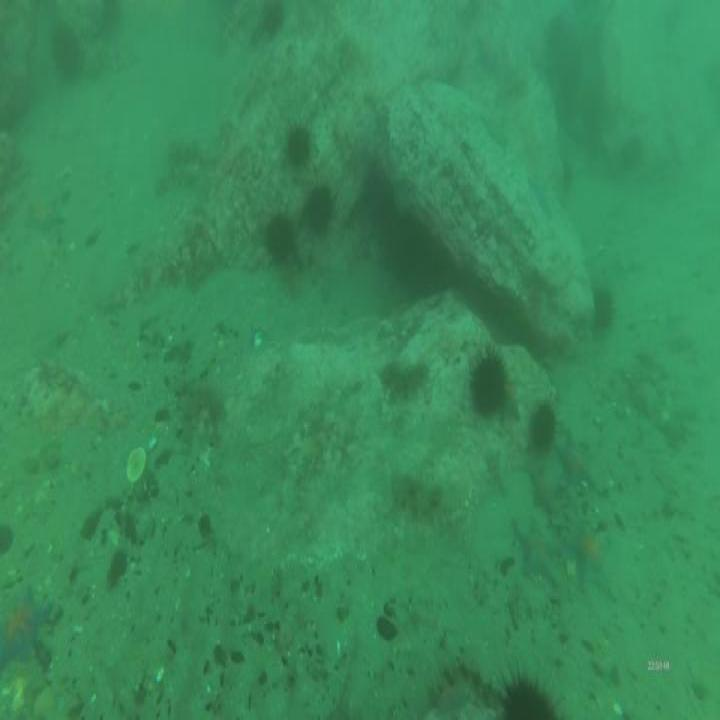echinus: (495, 659, 565, 720), (464, 341, 510, 416), (45, 19, 86, 89), (360, 170, 400, 234), (260, 208, 298, 272), (281, 119, 318, 176), (525, 397, 562, 454), (305, 182, 336, 239), (589, 282, 617, 330), (259, 0, 287, 44), (99, 0, 122, 39)
holothurian: (387, 468, 447, 524), (375, 352, 433, 409)
starfish: (508, 510, 571, 592), (0, 580, 53, 674), (563, 514, 618, 604), (554, 423, 595, 496), (524, 460, 568, 521)
